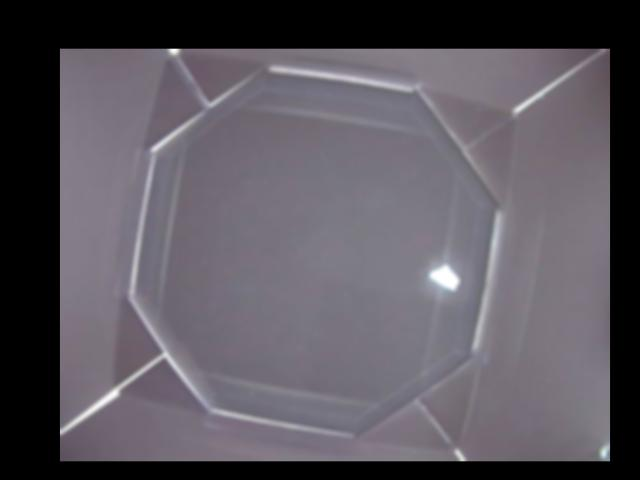China: (426, 263, 460, 292)
